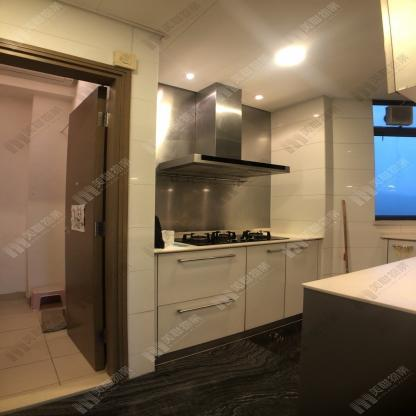Cupboard: (153, 237, 323, 367)
Exhaust Fan: (385, 104, 413, 125)
Exhaust Hood: (157, 154, 290, 181)
Stove: (172, 229, 289, 246)
